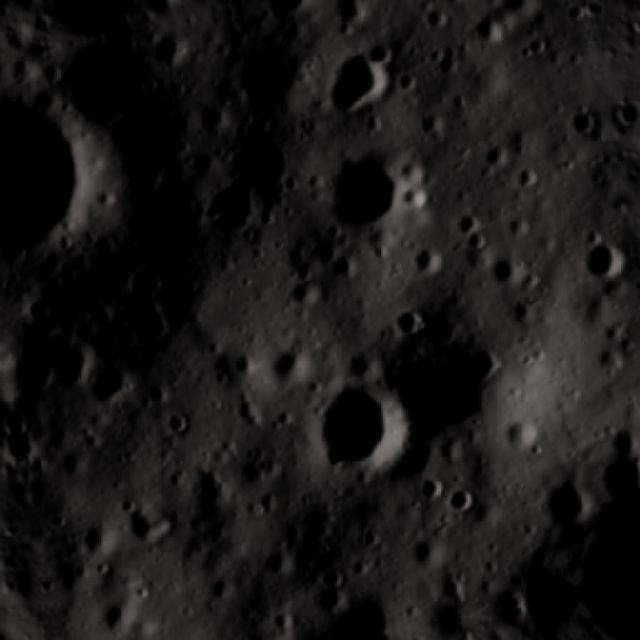crater: (0, 70, 115, 263), (301, 341, 421, 484), (183, 123, 303, 245), (301, 34, 407, 128), (318, 139, 422, 230), (81, 354, 148, 414), (574, 230, 632, 288), (144, 18, 204, 72), (0, 299, 15, 385), (391, 0, 450, 15)
